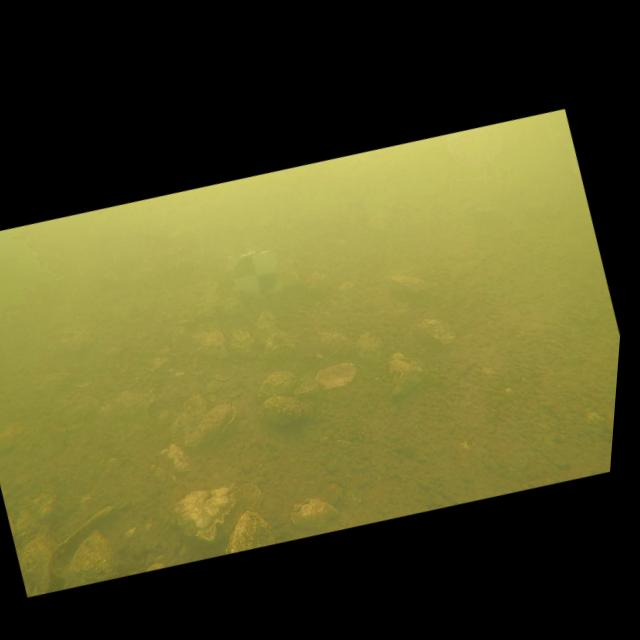Oyster-Closed: (174, 484, 246, 540), (41, 381, 109, 436), (183, 401, 231, 451), (226, 511, 276, 554), (389, 352, 426, 397), (291, 498, 339, 529), (386, 275, 430, 306), (264, 395, 309, 425), (416, 319, 454, 352), (258, 371, 300, 398), (194, 330, 229, 359), (264, 332, 296, 361), (320, 332, 357, 356), (356, 332, 383, 364), (231, 330, 258, 358), (303, 272, 332, 296), (256, 310, 277, 330)
Oyster-Indeterminate: (64, 531, 120, 589), (19, 524, 57, 597), (172, 395, 207, 439)
Oyster-Open: (294, 362, 356, 395)
